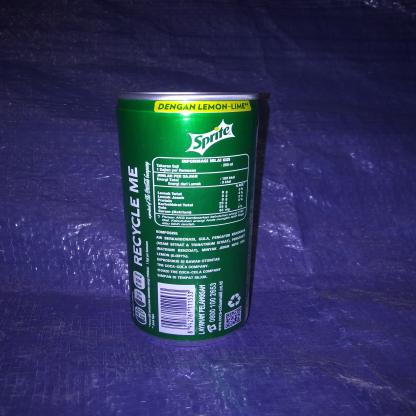can: (108, 87, 276, 340)
